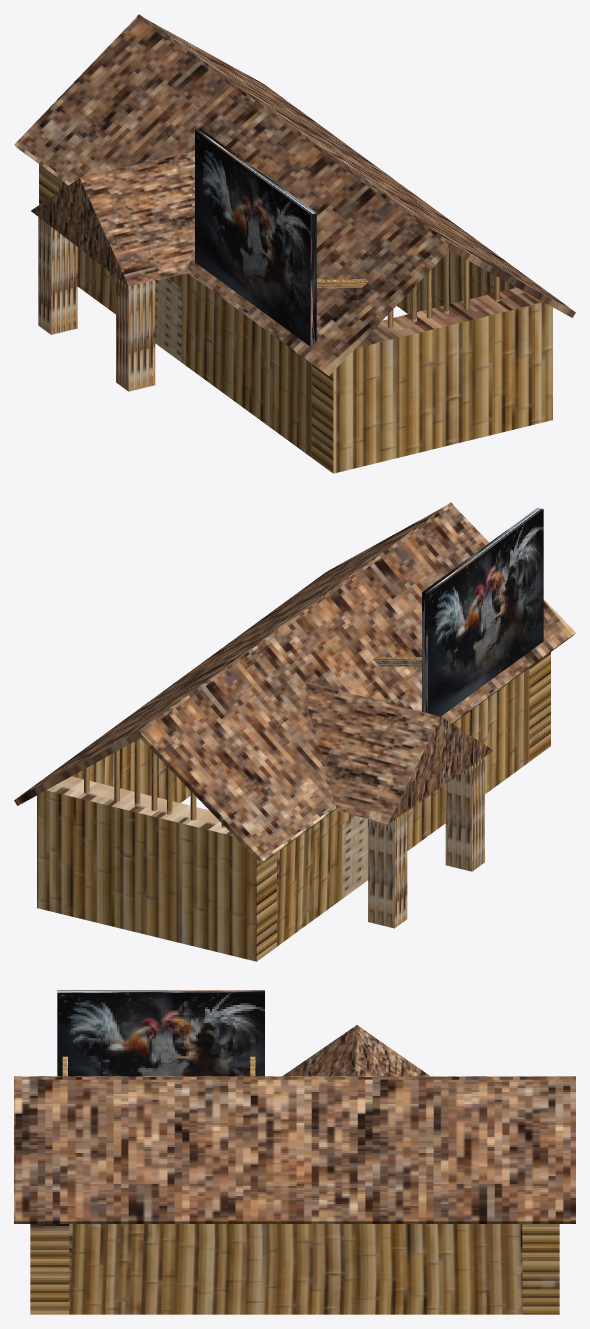
Rendered from house 19.fbx.
The picture shows the model from 3 angles, top to bottom: view 1: azimuth 30°, elevation 25°; view 2: azimuth 150°, elevation 25°; view 3: azimuth 270°, elevation 25°; orthographic projection. The views are drawn at different scales.
Visible parts, largest first — view 1: Cylinder.001, Cube; view 2: Cylinder.001, Cube; view 3: Cylinder.001, Cube.
Part boxes in pixels (x1=…): Cylinder.001: x1=14, y1=14, x2=575, y2=473; Cube: x1=195, y1=128, x2=316, y2=346; Cylinder.001: x1=14, y1=502, x2=575, y2=961; Cube: x1=422, y1=507, x2=543, y2=716; Cylinder.001: x1=14, y1=1025, x2=575, y2=1314; Cube: x1=57, y1=990, x2=264, y2=1076.
Size of the model in its own units: 1739 by 1352 by 3061.
